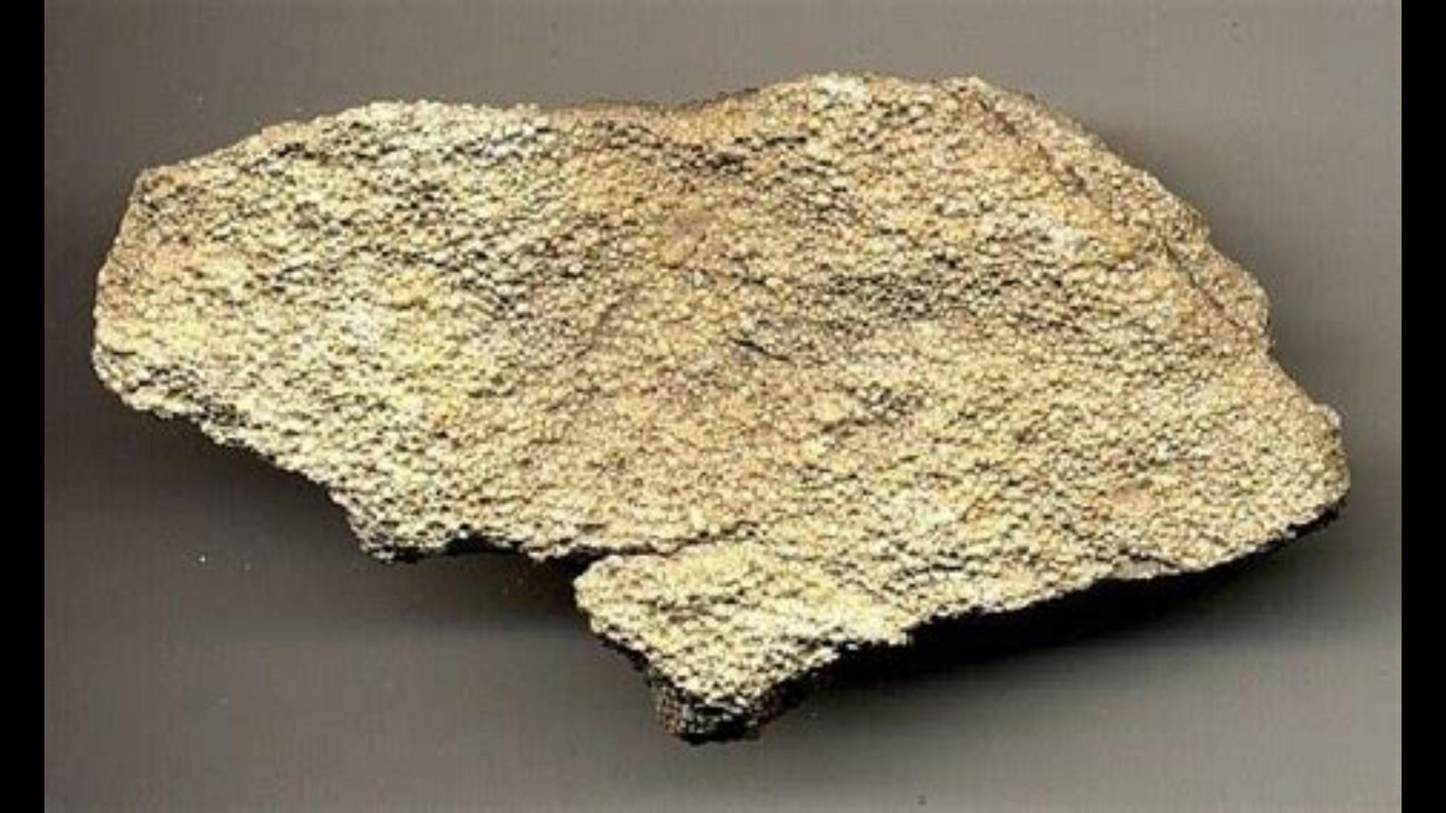rock: (96, 77, 1345, 730)
